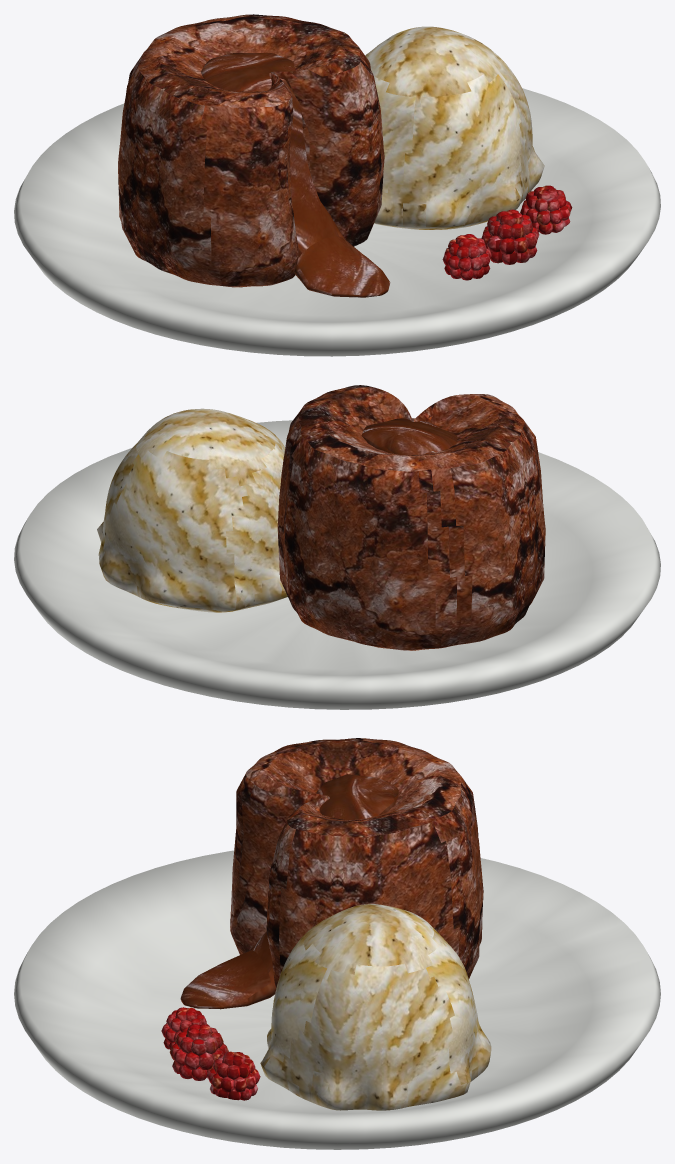
The model's file is petit-gateau.glb.
3 renders of one model, top to bottom at view 1: azimuth 30°, elevation 25°; view 2: azimuth 150°, elevation 25°; view 3: azimuth 270°, elevation 25°, orthographic. The views are drawn at different scales.
Parts seen in each view (by area): view 1: Prato006, Bolo_de_casca_rompida, Sorvete_de_baunilha_tirado_à_colher001, Coração_de_chocolate_fundido, Framboesas_em_drupéolas; view 2: Prato006, Bolo_de_casca_rompida, Sorvete_de_baunilha_tirado_à_colher001, Coração_de_chocolate_fundido; view 3: Prato006, Bolo_de_casca_rompida, Sorvete_de_baunilha_tirado_à_colher001, Coração_de_chocolate_fundido, Framboesas_em_drupéolas.
Part boxes in pixels (x1=…): Prato006: x1=14, y1=88, x2=660, y2=356; Bolo_de_casca_rompida: x1=118, y1=14, x2=384, y2=287; Sorvete_de_baunilha_tirado_à_colher001: x1=365, y1=26, x2=544, y2=229; Coração_de_chocolate_fundido: x1=201, y1=53, x2=390, y2=297; Framboesas_em_drupéolas: x1=442, y1=185, x2=572, y2=280; Prato006: x1=14, y1=420, x2=660, y2=709; Bolo_de_casca_rompida: x1=277, y1=385, x2=545, y2=650; Sorvete_de_baunilha_tirado_à_colher001: x1=97, y1=408, x2=287, y2=612; Coração_de_chocolate_fundido: x1=361, y1=418, x2=457, y2=455; Prato006: x1=14, y1=850, x2=660, y2=1149; Bolo_de_casca_rompida: x1=230, y1=738, x2=483, y2=987; Sorvete_de_baunilha_tirado_à_colher001: x1=260, y1=904, x2=491, y2=1110; Coração_de_chocolate_fundido: x1=180, y1=774, x2=398, y2=1009; Framboesas_em_drupéolas: x1=161, y1=1007, x2=260, y2=1100.
Bounding box in the file's own units: 0.156 × 0.057 × 0.15.
5 materials, 4 textured.
